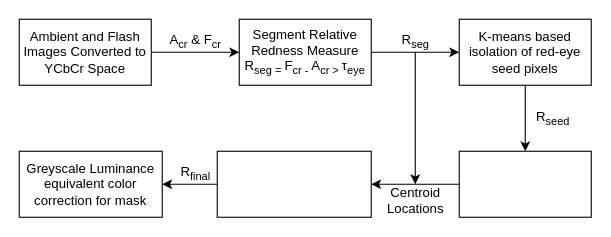
The diagram is 611 pixels wide and 237 high, and some of its shapes have lost their labels. The shapes that lost their labels are listed below. From the top down, each one's centre as x and y in pixels, then its label:
[293,183]: Compute final mask as weighted R seg within red-eye centroids
[524,183]: MATLAB's regionprop Centroid Analysis
